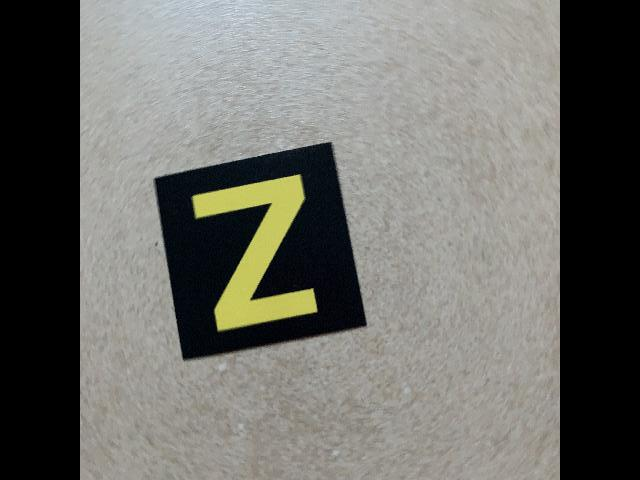alphabet_z: (153, 137, 371, 364)
